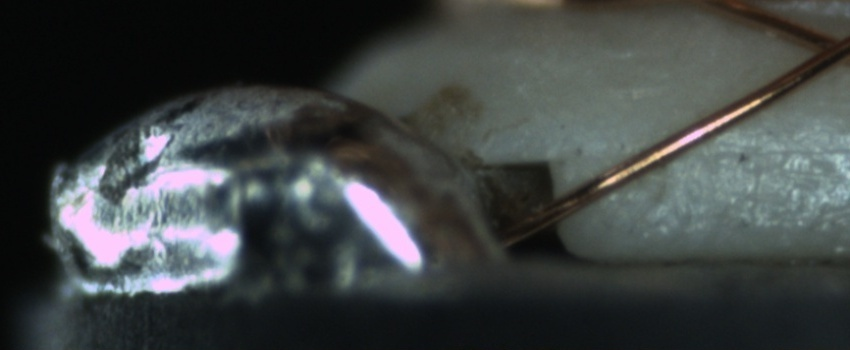CL: (797, 18, 850, 75)
DL: (691, 119, 849, 182)
